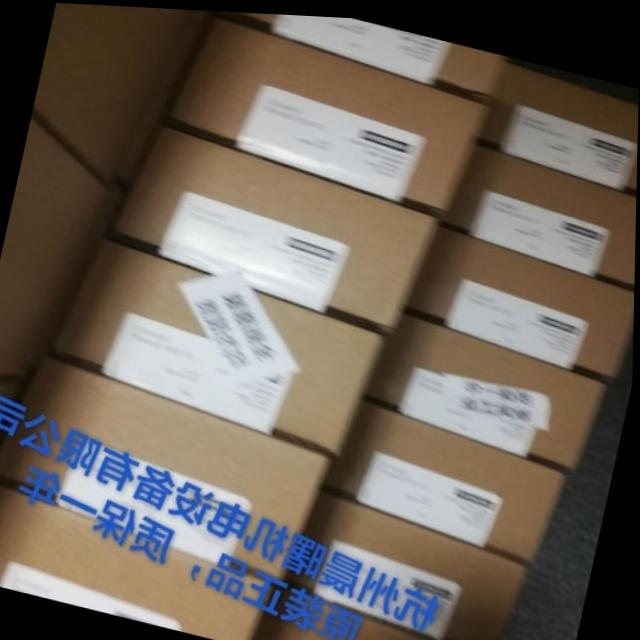box: (0, 354, 333, 580), (55, 238, 388, 456), (109, 124, 442, 333), (166, 15, 489, 213), (0, 483, 277, 640), (323, 395, 570, 560), (367, 307, 610, 470), (287, 487, 528, 640), (406, 221, 635, 380), (33, 2, 191, 186), (0, 117, 110, 374), (441, 141, 637, 285), (218, 9, 504, 92), (468, 56, 639, 189), (116, 8, 212, 186), (255, 585, 441, 640), (0, 385, 19, 428)
